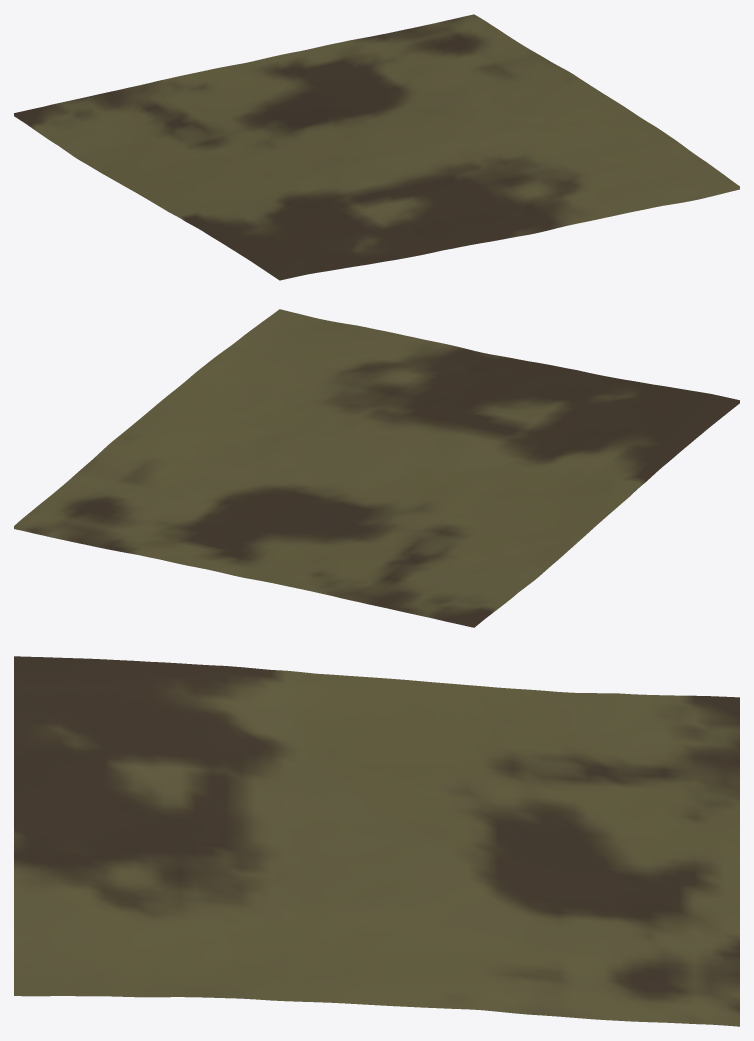
File: land_m_02_10.glb
3 renders of one model, top to bottom at view 1: azimuth 30°, elevation 25°; view 2: azimuth 150°, elevation 25°; view 3: azimuth 270°, elevation 25°, orthographic. The views are drawn at different scales.
Visible parts, largest first — view 1: land_m_02_10; view 2: land_m_02_10; view 3: land_m_02_10.
Boxes of the visible parts, x1,y1,x2,y2 form: land_m_02_10: (14, 14, 739, 280); land_m_02_10: (14, 309, 739, 627); land_m_02_10: (14, 656, 739, 1026).
Size of the model in its own units: 960 by 92.82 by 960.
